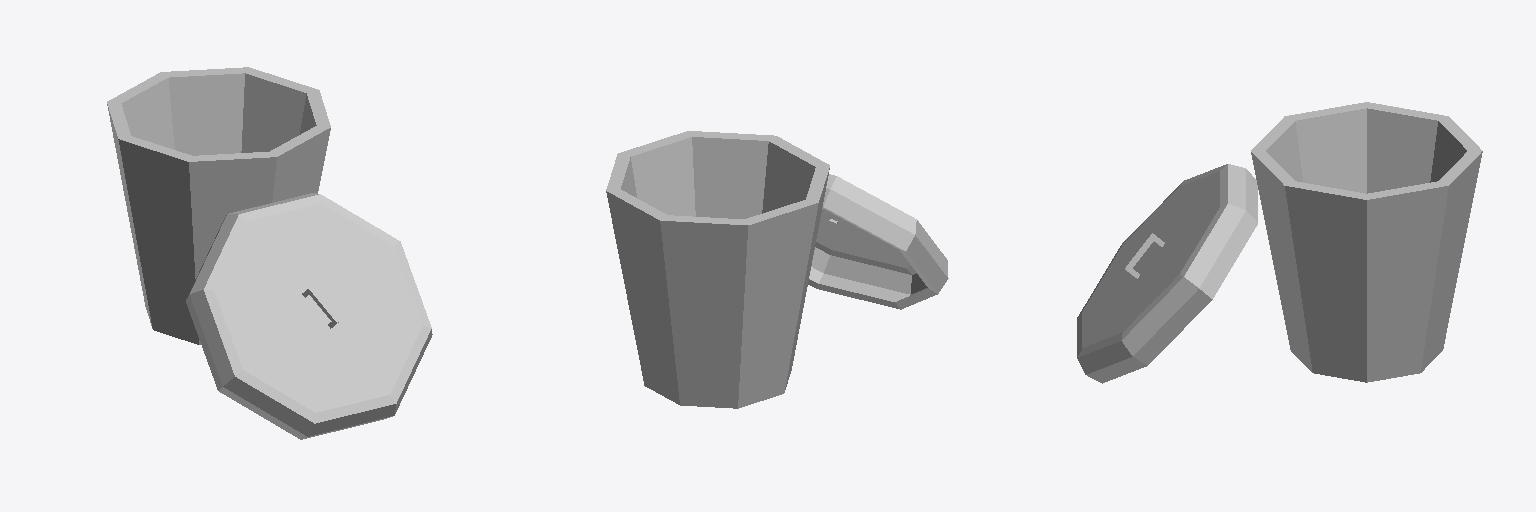
The model's file is trashcan-apart.obj.
3 views of the same model, side by side, from view 1: azimuth 30°, elevation 25°; view 2: azimuth 150°, elevation 25°; view 3: azimuth 270°, elevation 25° (orthographic).
Visible parts, largest first — view 1: TrashCan-Hinge.003_Cylinder.031, TrashCan-Hinge.002_Cylinder.030, Cube.036_Cube.049; view 2: TrashCan-Hinge.002_Cylinder.030, TrashCan-Hinge.003_Cylinder.031; view 3: TrashCan-Hinge.002_Cylinder.030, TrashCan-Hinge.003_Cylinder.031.
Part boxes in pixels (left/top/right/bottom): TrashCan-Hinge.003_Cylinder.031: left=186, top=193, right=432, bottom=439; TrashCan-Hinge.002_Cylinder.030: left=107, top=67, right=330, bottom=344; Cube.036_Cube.049: left=302, top=284, right=342, bottom=328; TrashCan-Hinge.002_Cylinder.030: left=606, top=131, right=829, bottom=408; TrashCan-Hinge.003_Cylinder.031: left=808, top=174, right=948, bottom=309; TrashCan-Hinge.002_Cylinder.030: left=1251, top=102, right=1482, bottom=382; TrashCan-Hinge.003_Cylinder.031: left=1077, top=164, right=1257, bottom=383.
Bounding box in the file's own units: 1.23 × 1.19 × 2.02.